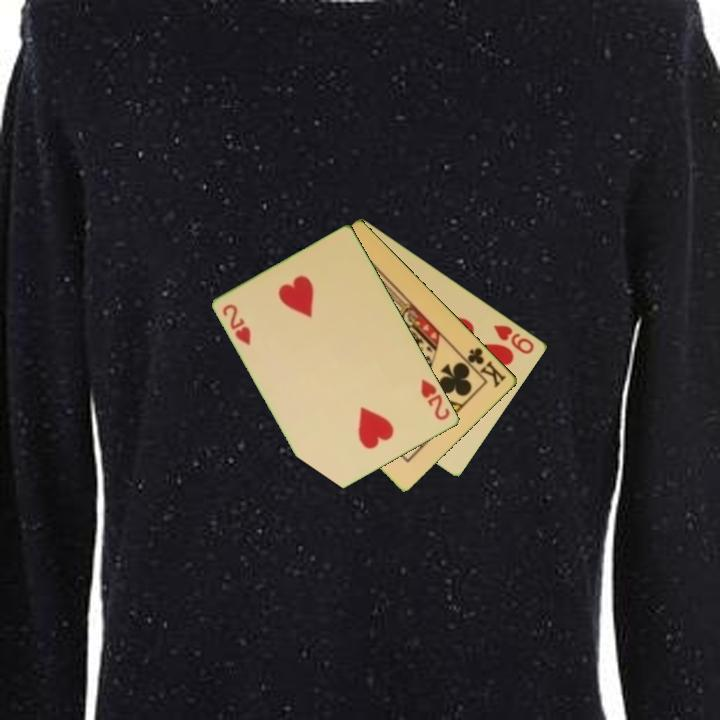2h: (417, 376, 453, 423), (219, 301, 254, 348)
9h: (491, 321, 537, 357)
Kc: (458, 344, 510, 391)
